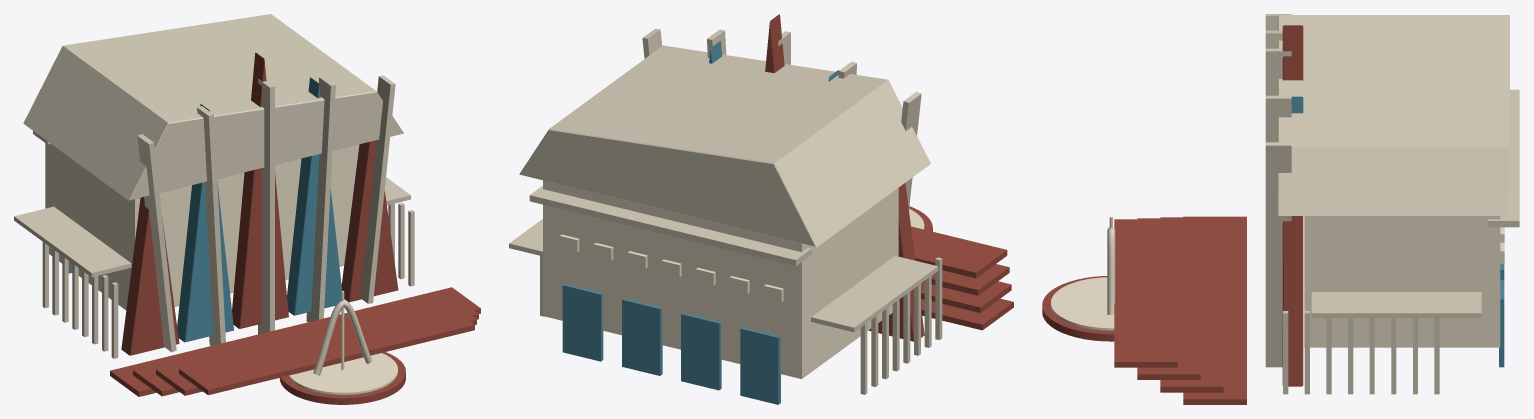
Rendered from national-theatre.glb.
3 views of the same model, side by side, from view 1: azimuth 30°, elevation 25°; view 2: azimuth 150°, elevation 25°; view 3: azimuth 270°, elevation 25° (orthographic). The views are drawn at different scales.
Parts seen in each view (by area): view 1: cantilever-roof/folded-roof, auditorium-volume/auditorium, terraced-forecourt/step-4, five-point-facade/pointed-bay-3, five-point-facade/pointed-bay-4, five-point-facade/pointed-bay-2, five-point-facade/pointed-bay-5, five-point-facade/pointed-bay-1, side-colonnade/gallery-slab, concrete-fins/fin-4, concrete-fins/fin-3, concrete-fins/fin-5 (+18 smaller); view 2: cantilever-roof/folded-roof, auditorium-volume/auditorium, side-colonnade/gallery-slab, rear-stage-services/rear-rain-screen, terraced-forecourt/step-4, rear-stage-services/loading-door-4, rear-stage-services/loading-door-1, rear-stage-services/loading-door-2, rear-stage-services/loading-door-3, five-point-facade/pointed-bay-1, terraced-forecourt/step-1, terraced-forecourt/step-2 (+11 smaller); view 3: cantilever-roof/folded-roof, auditorium-volume/auditorium, terraced-forecourt/step-4, terraced-forecourt/step-1, terraced-forecourt/step-2, terraced-forecourt/step-3, side-colonnade/gallery-slab, concrete-fins/fin-5, five-point-facade/pointed-bay-5, crescent-fountain/water, rear-stage-services/rear-rain-screen, crescent-fountain/basin (+12 smaller).
Boxes of the visible parts, x1,y1,x2,y2 form: cantilever-roof/folded-roof: (23,14,403,200); auditorium-volume/auditorium: (45,143,359,310); terraced-forecourt/step-4: (179,304,474,395); five-point-facade/pointed-bay-3: (232,52,288,328); five-point-facade/pointed-bay-4: (287,77,342,315); five-point-facade/pointed-bay-2: (177,104,233,342); five-point-facade/pointed-bay-5: (341,140,398,302); five-point-facade/pointed-bay-1: (121,197,179,355); side-colonnade/gallery-slab: (14,177,410,277); concrete-fins/fin-4: (306,76,335,322); concrete-fins/fin-3: (258,79,274,334); concrete-fins/fin-5: (360,75,395,303); cantilever-roof/folded-roof: (519,45,930,246); auditorium-volume/auditorium: (543,180,898,378); side-colonnade/gallery-slab: (509,219,938,332); rear-stage-services/rear-rain-screen: (529,186,811,266); terraced-forecourt/step-4: (911,226,1007,278); rear-stage-services/loading-door-4: (562,284,603,361); rear-stage-services/loading-door-1: (740,327,780,404); rear-stage-services/loading-door-2: (681,313,721,390); rear-stage-services/loading-door-3: (622,298,662,375); five-point-facade/pointed-bay-1: (868,183,924,341); terraced-forecourt/step-1: (921,298,1013,330); terraced-forecourt/step-2: (921,281,1011,312); cantilever-roof/folded-roof: (1277,15,1509,215); auditorium-volume/auditorium: (1304,216,1500,347); terraced-forecourt/step-4: (1114,219,1177,367); terraced-forecourt/step-1: (1183,216,1246,404); terraced-forecourt/step-2: (1160,217,1223,392); terraced-forecourt/step-3: (1137,218,1200,379); side-colonnade/gallery-slab: (1311,292,1481,317); concrete-fins/fin-5: (1265,142,1291,367); five-point-facade/pointed-bay-5: (1282,216,1303,386); crescent-fountain/water: (1051,277,1114,330); rear-stage-services/rear-rain-screen: (1488,89,1519,227); crescent-fountain/basin: (1042,276,1114,341).
Bounding box in the file's own units: 15 × 12.14 × 16.57.
